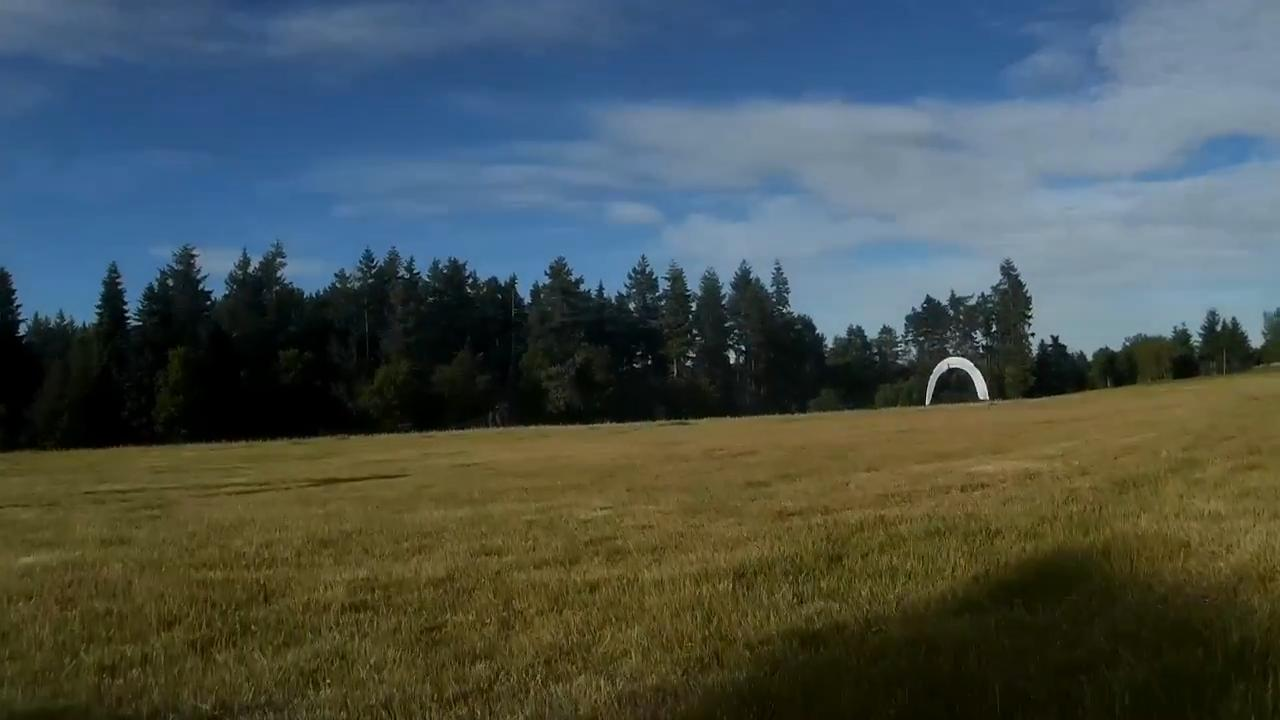gate: (924, 357, 988, 408)
